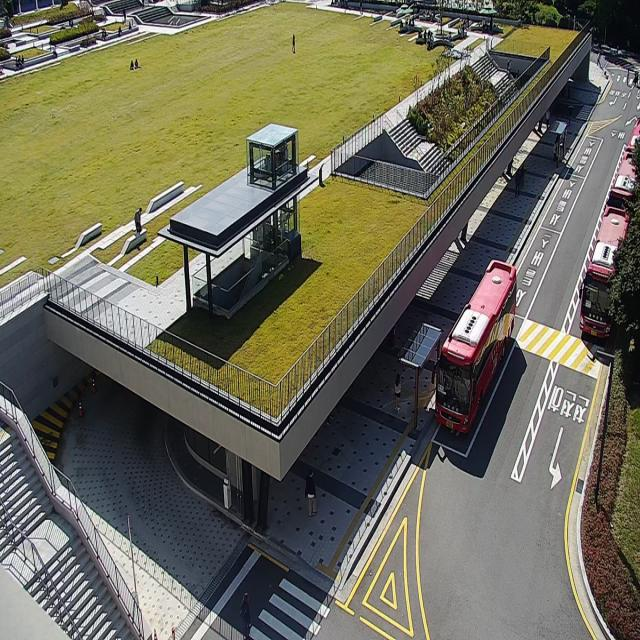queue: (414, 325, 444, 433)
